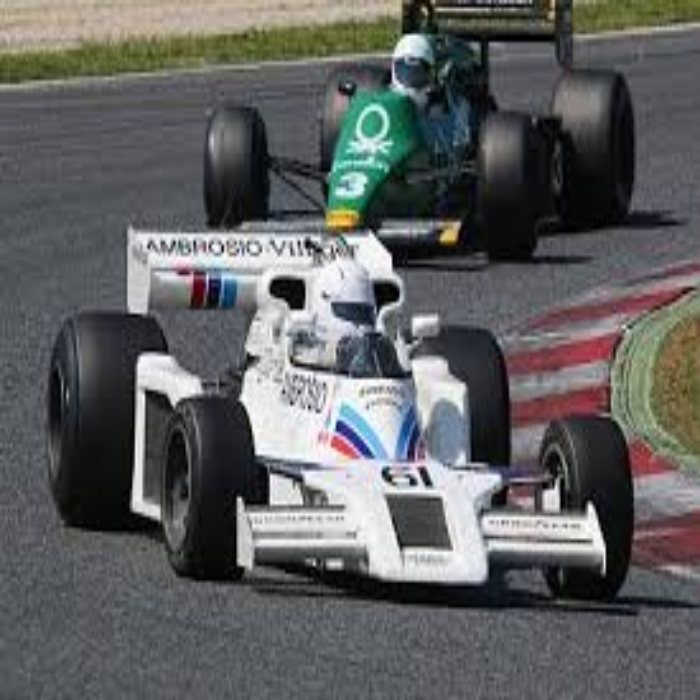f1_car: (53, 207, 653, 648), (212, 1, 658, 269)
